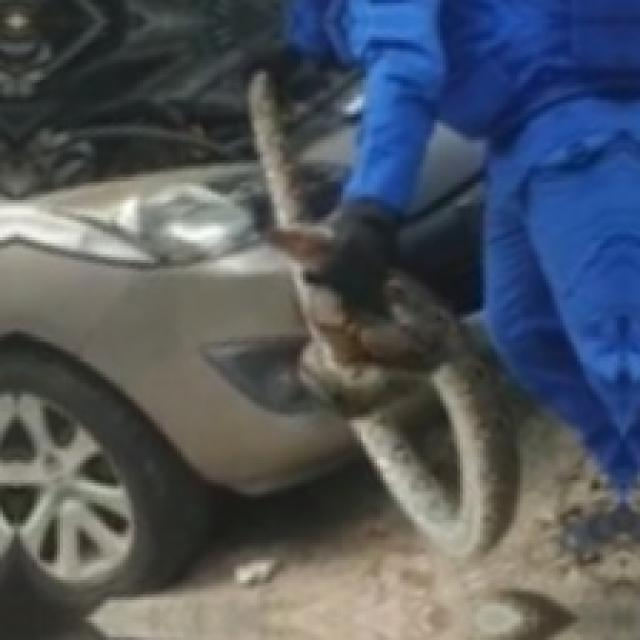reticulated python: (249, 71, 517, 554)
